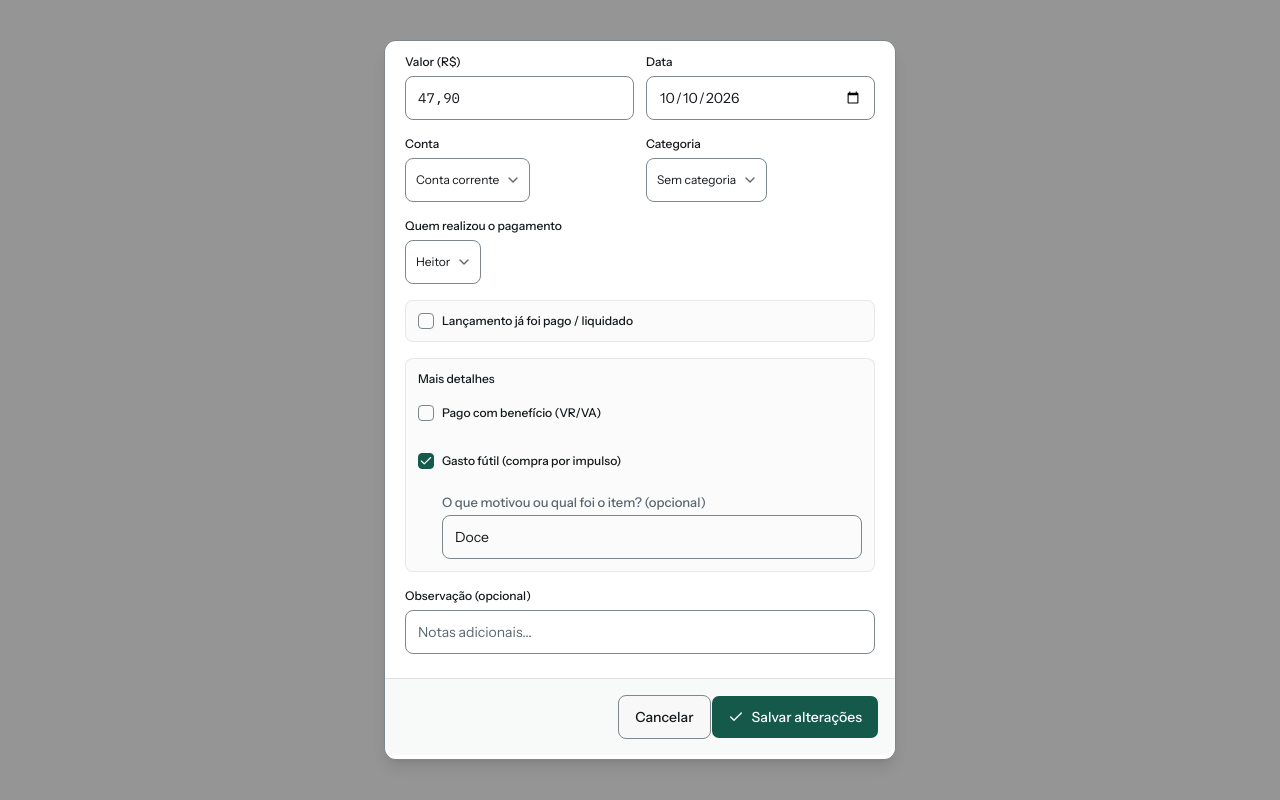
Test: DialogoEditarLancamento — benefício e gasto fútil › mostra o erro de campo do rótulo e o apaga, com o aviso geral, ao digitar nele
This screenshot has width=1280, height=800.
(page scrolled)
Click the button "Salvar alterações".
click(795, 717)  # box [711,695,879,739]
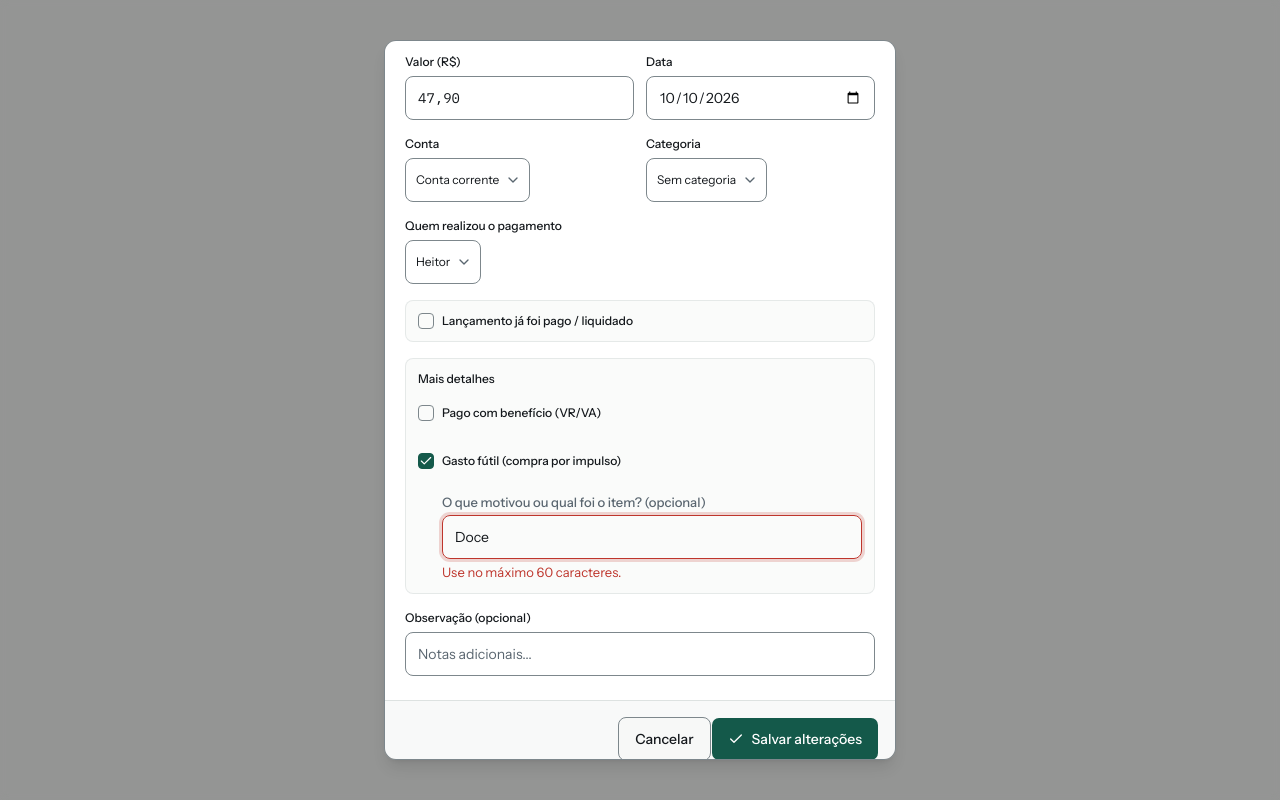
Replace the text in the field labelled "O que motivou ou qual foi o item? (opcional)" with "Doces" at (652, 537), box [442,515,862,559]
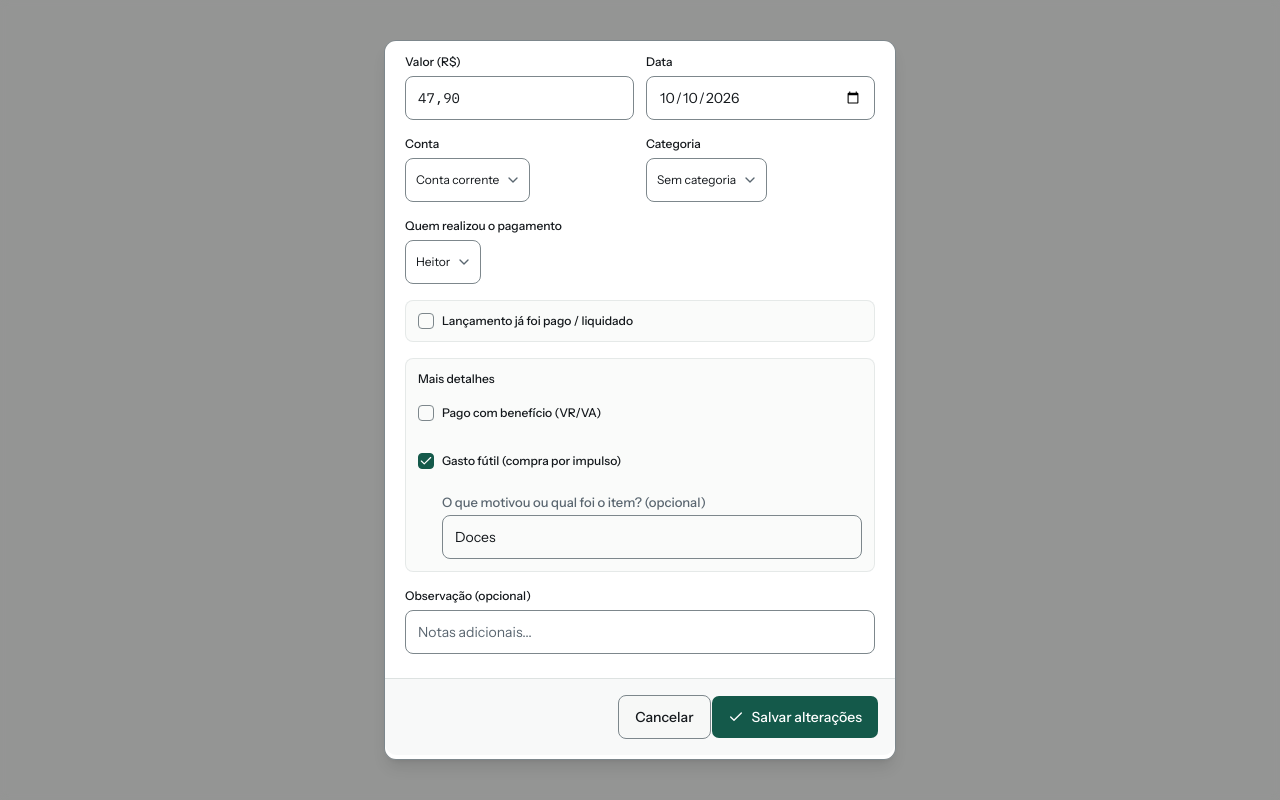
expect the text "Use no máximo 60 caracteres." is gone: met
